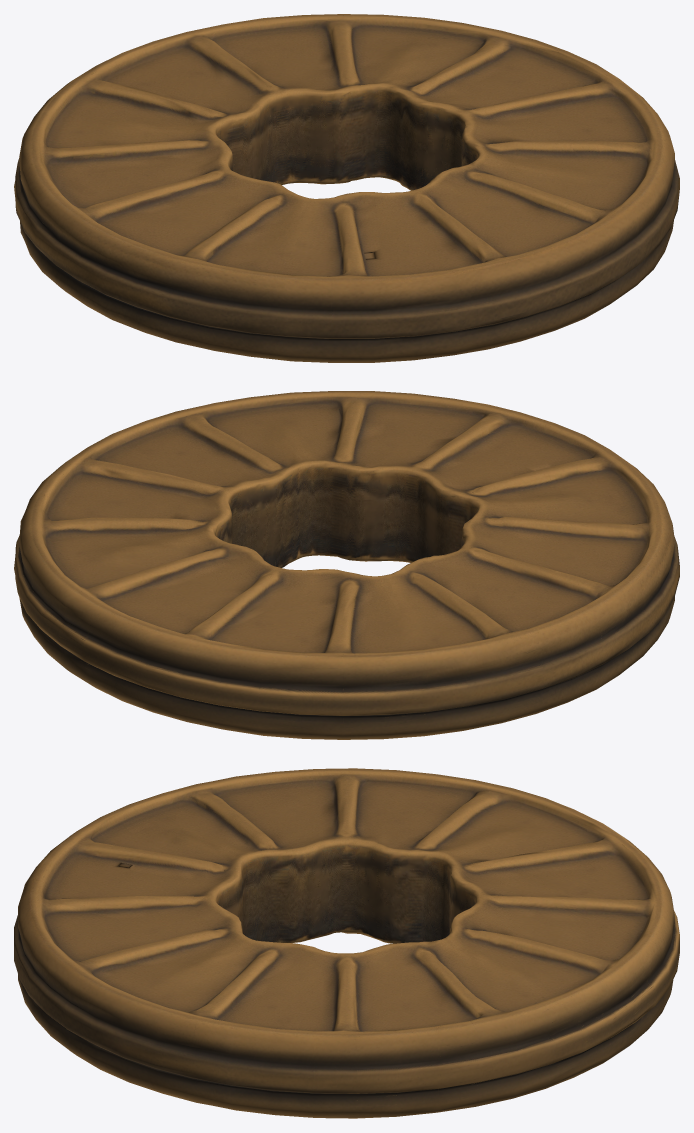
The model's file is Fuse.fbx.
3 views of the same model, one above another, from view 1: azimuth 30°, elevation 25°; view 2: azimuth 150°, elevation 25°; view 3: azimuth 270°, elevation 25° (orthographic).
Visible parts, largest first — view 1: mesh_node; view 2: mesh_node; view 3: mesh_node.
Part boxes in pixels (<box>): mesh_node: <box>14,14,679,362</box>; mesh_node: <box>14,391,679,739</box>; mesh_node: <box>14,768,679,1118</box>.
Size of the model in its own units: 191 by 29.35 by 190.
1 material, 1 textured.
